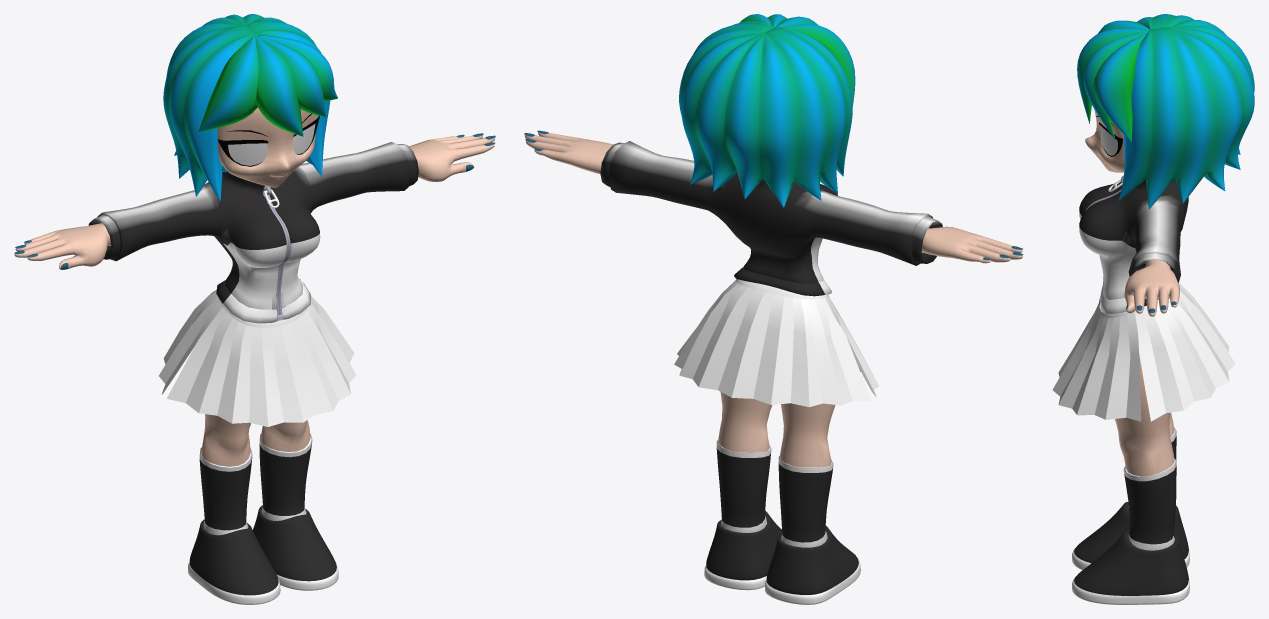
File: kim.fbx
The picture shows the model from 3 angles, left to right: view 1: azimuth 30°, elevation 25°; view 2: azimuth 150°, elevation 25°; view 3: azimuth 270°, elevation 25°; orthographic projection. The views are drawn at different scales.
Parts seen in each view (by area): view 1: kim_wear_top, kim_wear_skirt, kim_hair_sym, kim_wear_shoes, kim_hair_asym, kim_skin_body, kim_wear_socks, kim_skin_head, kim_skin_eye.R; view 2: kim_hair_sym, kim_wear_top, kim_wear_skirt, kim_skin_body, kim_wear_shoes, kim_wear_socks, kim_hair_asym; view 3: kim_hair_sym, kim_wear_skirt, kim_wear_top, kim_wear_shoes, kim_skin_body, kim_hair_asym, kim_wear_socks, kim_skin_head, kim_skin_eye.L.
Boxes of the visible parts, left/top/right/bottom form: kim_wear_top: left=88, top=142, right=418, bottom=323; kim_wear_skirt: left=159, top=290, right=356, bottom=426; kim_hair_sym: left=163, top=14, right=330, bottom=201; kim_wear_shoes: left=188, top=505, right=338, bottom=604; kim_hair_asym: left=198, top=36, right=337, bottom=136; kim_skin_body: left=14, top=133, right=495, bottom=466; kim_wear_socks: left=199, top=433, right=312, bottom=535; kim_skin_head: left=217, top=107, right=319, bottom=187; kim_skin_eye.R: left=228, top=143, right=267, bottom=165; kim_hair_sym: left=679, top=21, right=852, bottom=207; kim_wear_top: left=600, top=141, right=942, bottom=296; kim_wear_skirt: left=674, top=279, right=878, bottom=407; kim_skin_body: left=524, top=130, right=1023, bottom=467; kim_wear_shoes: left=704, top=511, right=860, bottom=604; kim_wear_socks: left=716, top=440, right=833, bottom=547; kim_hair_asym: left=739, top=14, right=855, bottom=106; kim_hair_sym: left=1118, top=14, right=1254, bottom=209; kim_wear_skirt: left=1052, top=283, right=1235, bottom=421; kim_wear_top: left=1079, top=179, right=1188, bottom=314; kim_wear_shoes: left=1072, top=502, right=1189, bottom=604; kim_skin_body: left=1115, top=259, right=1179, bottom=476; kim_hair_asym: left=1077, top=20, right=1149, bottom=141; kim_wear_socks: left=1123, top=427, right=1176, bottom=550; kim_skin_head: left=1085, top=110, right=1124, bottom=172; kim_skin_eye.L: left=1100, top=126, right=1117, bottom=155.
Bounding box in the file's own units: 161 × 171 × 57.14.
